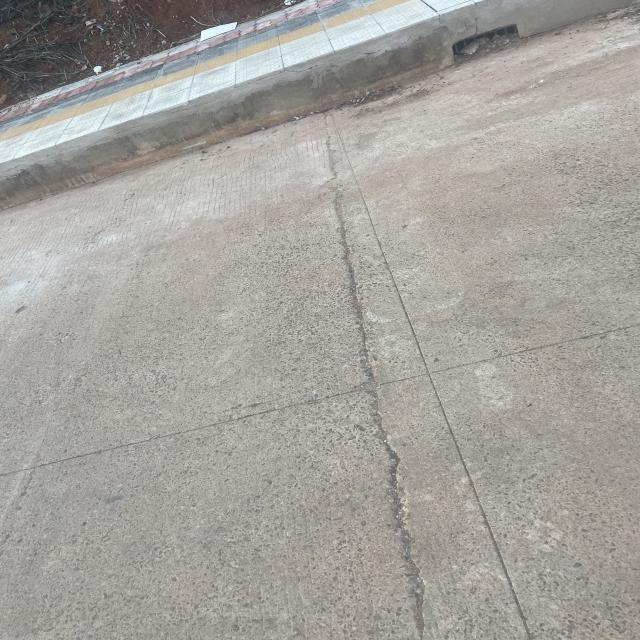D43: (256, 172, 554, 639)
